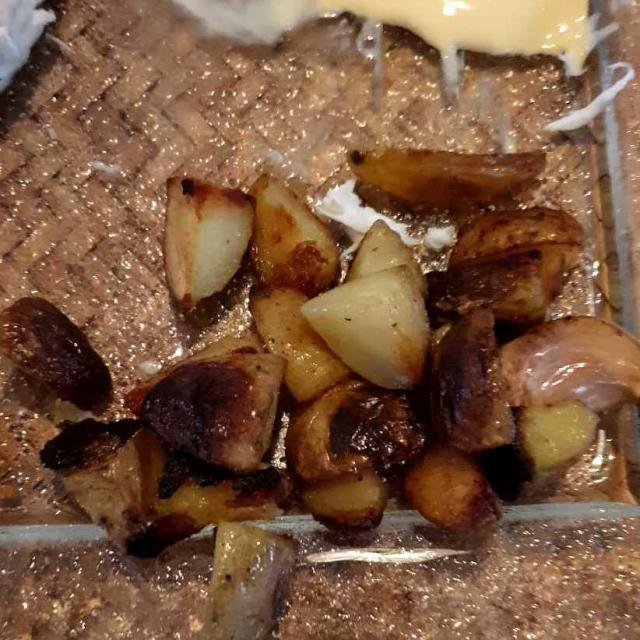potatoes: (21, 53, 629, 541)
